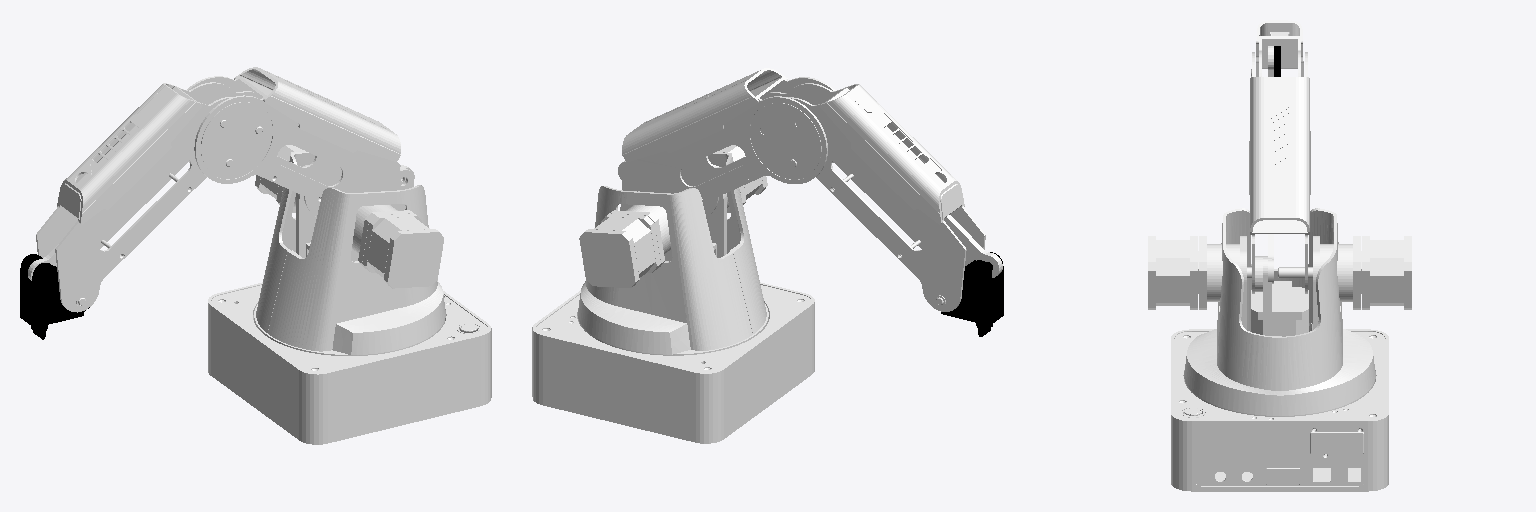
robot.urdf — dobot:
<?xml version="1.0" encoding="utf-8"?>
<!-- =================================================================================== -->
<!-- |    This document was autogenerated by xacro from robot1.urdf.xacro              | -->
<!-- |    EDITING THIS FILE BY HAND IS NOT RECOMMENDED                                 | -->
<!-- =================================================================================== -->
<robot name="dobot">
  <material name="black">
    <color rgba="0 0 0 1"/>
  </material>
  <material name="white">
    <color rgba="1 1 1 1"/>
  </material>
  <link name="base_link">
    <visual>
      <origin rpy="0 0 0" xyz="0.006535 -0.0812 0"/>
      <geometry>
        <mesh filename="package://dobot/urdf/meshes/0part.stl" scale="0.01 0.01 0.01"/>
      </geometry>
      <material name="white"/>
    </visual>
  </link>
  <link name="link_1">
    <visual>
      <origin rpy="0 0 0" xyz="0.006535 -0.0812 -0.1"/>
      <geometry>
        <mesh filename="package://dobot/urdf/meshes/1part.stl" scale="0.001 0.001 0.001"/>
      </geometry>
      <material name="white"/>
    </visual>
  </link>
  <link name="link_2">
    <visual>
      <origin rpy="0 0 0" xyz="0.006535 -0.0812 -0.143"/>
      <geometry>
        <mesh filename="package://dobot/urdf/meshes/2.stl" scale="0.001 0.001 0.001"/>
      </geometry>
      <material name="white"/>
    </visual>
  </link>
  <link name="link_2_1">
    <visual>
      <origin rpy="0 0.57 0" xyz="0 0 0"/>
      <geometry>
        <mesh filename="package://dobot/urdf/meshes/sterz2_1.stl" scale="0.01 0.01 0.01"/>
      </geometry>
      <material name="white"/>
    </visual>
  </link>
  <link name="link_3">
    <visual>
      <origin rpy="0 0 0" xyz="0.119 -0.0813 -0.217"/>
      <geometry>
        <mesh filename="package://dobot/urdf/meshes/3.stl" scale="0.001 0.001 0.001"/>
      </geometry>
      <material name="white"/>
    </visual>
  </link>
  <link name="triangle">
    <visual>
      <origin rpy="0 0.16 0" xyz="0 0 0"/>
      <geometry>
        <mesh filename="package://dobot/urdf/meshes/trianglestab.stl" scale="0.01 0.01 0.01"/>
      </geometry>
      <material name="black"/>
    </visual>
  </link>
  <link name="link_3_1">
    <visual>
      <origin rpy="0 -0.65 0" xyz="0 0 0"/>
      <geometry>
        <mesh filename="package://dobot/urdf/meshes/sterz3_1.stl" scale="0.01 0.01 0.01"/>
      </geometry>
      <material name="white"/>
    </visual>
  </link>
  <link name="link_4">
    <visual>
      <origin rpy="0 0 0" xyz="0.272 -0.079 -0.16"/>
      <geometry>
        <mesh filename="package://dobot/urdf/meshes/raborg.stl" scale="0.001 0.001 0.001"/>
      </geometry>
      <material name="black"/>
    </visual>
  </link>
  <joint name="0-1" type="revolute">
    <axis xyz="0 0 1"/>
    <limit effort="1000.0" lower="-2.39" upper="2.108" velocity="1"/>
    <parent link="base_link"/>
    <child link="link_1"/>
    <origin rpy="0 0 0" xyz="0 0 0.1"/>
  </joint>
  <joint name="1-2" type="revolute">
    <axis xyz="0 1 0"/>
    <limit effort="1000.0" lower="-0.18" upper="1.77" velocity="1"/>
    <parent link="link_1"/>
    <child link="link_2"/>
    <origin rpy="0 0 0" xyz="0 0 0.042"/>
  </joint>
  <joint name="1-2_1" type="revolute">
    <axis xyz="0 1 0"/>
    <limit effort="1000.0" lower="-6.28" upper="6.28" velocity="1"/>
    <parent link="link_1"/>
    <child link="link_2_1"/>
    <origin rpy="0 0 0" xyz="0.04 -0.009 0.0625"/>
  </joint>
  <joint name="2-3" type="revolute">
    <axis xyz="0 1 0"/>
    <limit effort="1000.0" lower="-0.34" upper="1.12" velocity="1"/>
    <parent link="link_2"/>
    <child link="link_3"/>
    <origin rpy="0 0 0" xyz="-0.11246 0 0.0744"/>
  </joint>
  <joint name="2_1-triangle" type="revolute">
    <axis xyz="0 1 0"/>
    <limit effort="1000.0" lower="-6.28" upper="6.28" velocity="1"/>
    <parent link="link_2_1"/>
    <child link="triangle"/>
    <origin rpy="0 0 0" xyz="-0.1137 0.005 0.073"/>
  </joint>
  <joint name="triangle-3_1" type="revolute">
    <axis xyz="0 1 0"/>
    <limit effort="1000.0" lower="-6.28" upper="6.28" velocity="1"/>
    <parent link="triangle"/>
    <child link="link_3_1"/>
    <origin rpy="0 0 0" xyz="-0.071 0 0.0115"/>
  </joint>
  <joint name="3_1-4" type="revolute">
    <axis xyz="0 1 0"/>
    <limit effort="1000.0" lower="-6.28" upper="6.28" velocity="1"/>
    <parent link="link_3_1"/>
    <child link="link_4"/>
    <origin rpy="0 0 0" xyz="-0.117 0 -0.0888"/>
  </joint>
</robot>

--- Facts derived from the render (not from the file) ---
Views: 3 orthographic renders of the robot side by side, from view 1: azimuth 30°, elevation 25°; view 2: azimuth 150°, elevation 25°; view 3: azimuth 270°, elevation 25°.
Robot: dobot — 8 links, 7 joints (7 revolute); root link base_link; default pose: every joint at zero.
Links seen in each view (by area): view 1: link_1, base_link, link_3, link_2, link_4; view 2: link_1, base_link, link_3, link_2, link_4, link_3_1; view 3: link_1, base_link, link_2, link_3.
Boxes of the visible links, x1,y1,x2,y2 form: link_1: [254, 145, 445, 355]; base_link: [208, 282, 491, 444]; link_3: [36, 82, 257, 312]; link_2: [187, 67, 400, 216]; link_4: [20, 254, 89, 339]; link_1: [578, 145, 768, 355]; base_link: [532, 282, 814, 443]; link_3: [765, 83, 985, 311]; link_2: [622, 68, 835, 216]; link_4: [941, 252, 1003, 336]; link_3_1: [944, 215, 1002, 277]; link_1: [1148, 208, 1411, 416]; base_link: [1171, 329, 1388, 491]; link_2: [1249, 52, 1310, 293]; link_3: [1256, 20, 1303, 76].
Size in the robot's own frame: 0.3506 by 0.192 by 0.2713 metres.
8 mesh visuals loaded from 8 distinct referenced files (8 binary STL).